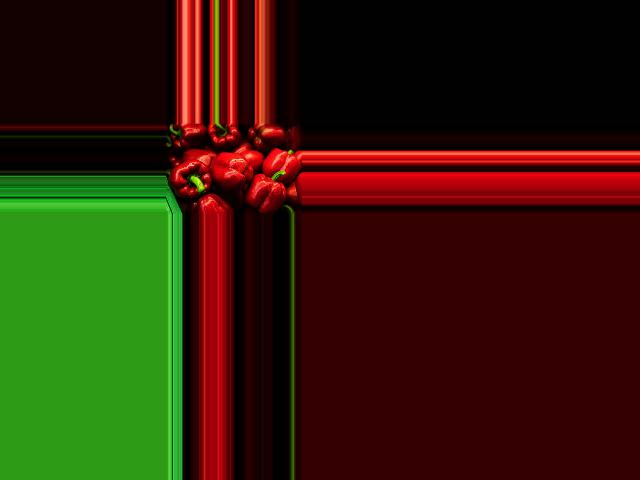bell_pepper: (168, 123, 205, 149)
